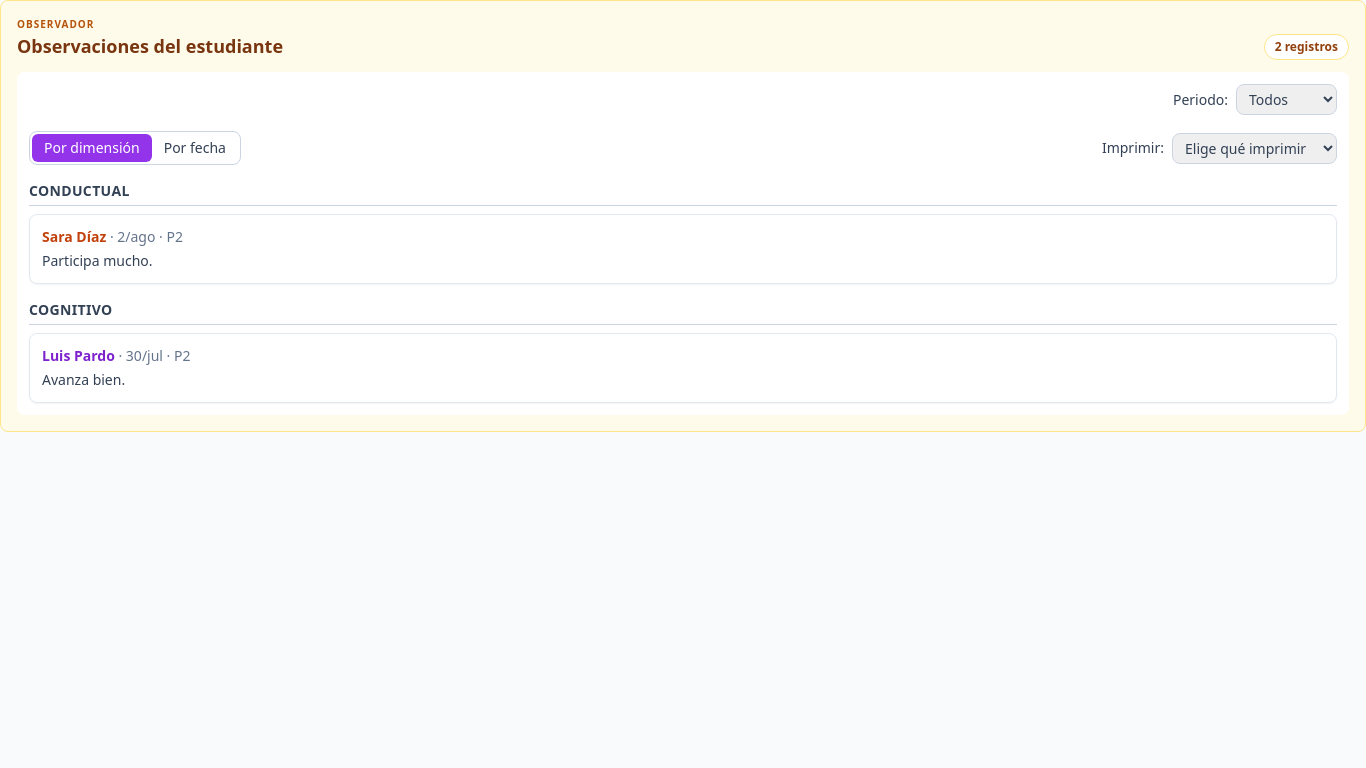
Test: ObservadorEnFichaAdmin › si el director no ha guardado su firma, avisa antes de imprimir y deja la raya con su nombre
This screenshot has width=1366, height=768.
Expected: the text "Participa mucho." is shown, [42,251,152,270]
Select "Todo el observador" in the dropdown labelled "Imprimir:" at (1254, 148), box [1172,132,1337,164]
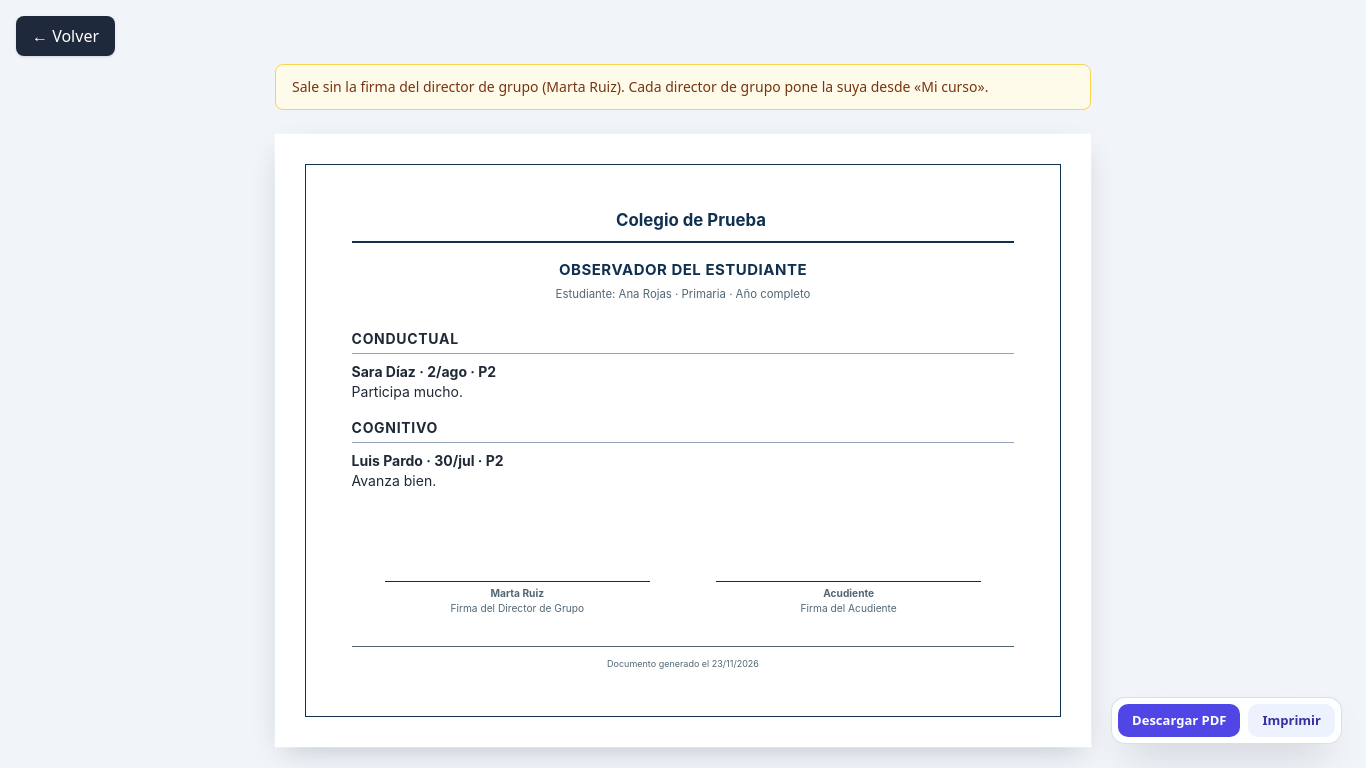
Result: the message shows "Sale sin la firma del director de grupo (Marta Ruiz). Cada director de grupo pone la suya desde «Mi curso»." at [292,77,988,96]
Result: the text "Marta Ruiz" is shown at [490,587,544,599]
